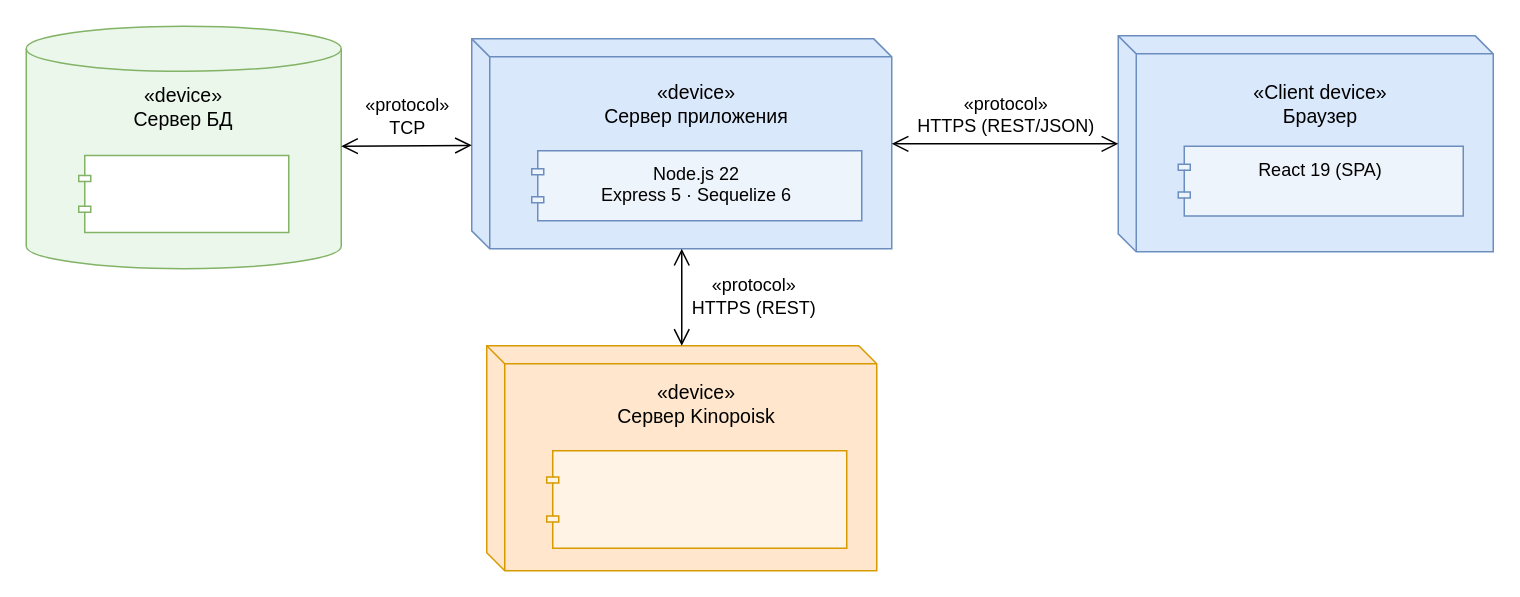
Some shapes in this 1520 by 597 pixel diagram are drawn without their labels. The centre of each missing label's shape, as x and y in pixels:
Kinopoisk API: (696,498)
PostgreSQL 16: (183,193)
